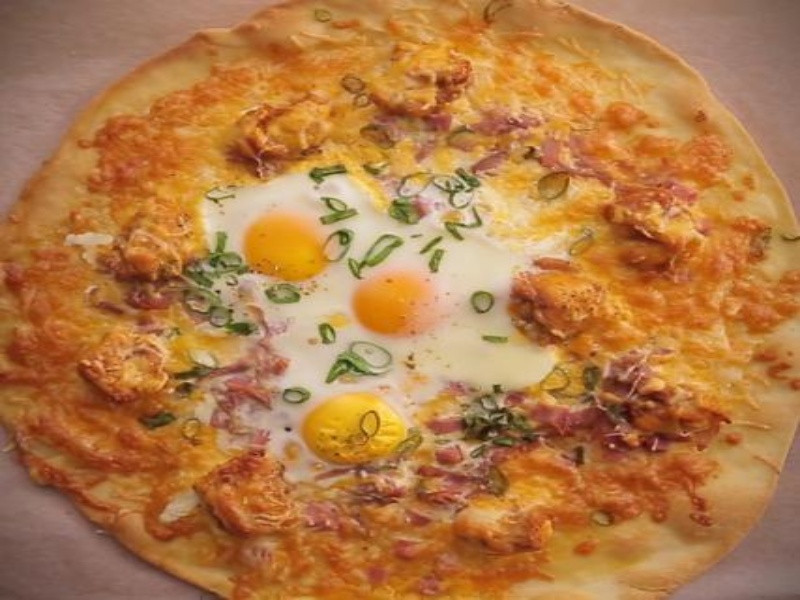oeuf: (340, 246, 449, 351), (232, 205, 336, 307), (295, 389, 411, 470)
